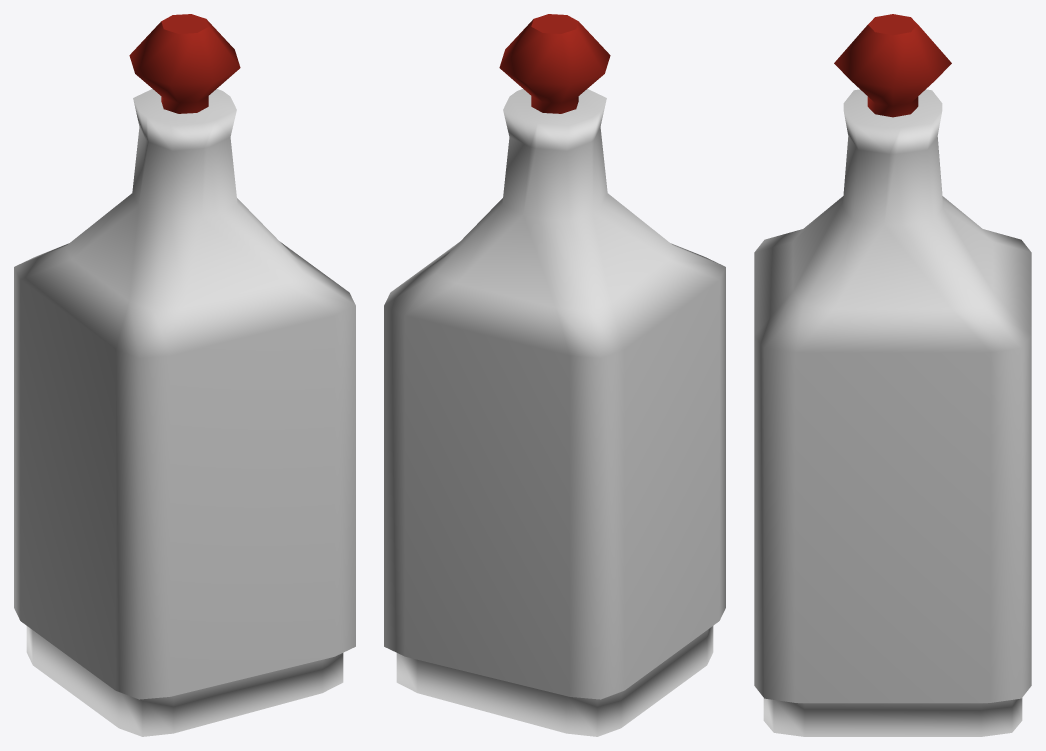
File: SM_Alcool_Bottle_01.fbx
The picture shows the model from 3 angles, left to right: view 1: azimuth 30°, elevation 25°; view 2: azimuth 150°, elevation 25°; view 3: azimuth 270°, elevation 25°; orthographic projection. The views are drawn at different scales.
Parts seen in each view (by area): view 1: Box041; view 2: Box041; view 3: Box041.
Part boxes in pixels (x1,y1,x2,y2): Box041: [14, 14, 355, 736]; Box041: [384, 14, 725, 736]; Box041: [754, 14, 1031, 736].
Size of the model in its own units: 12.46 by 32.88 by 12.46.
